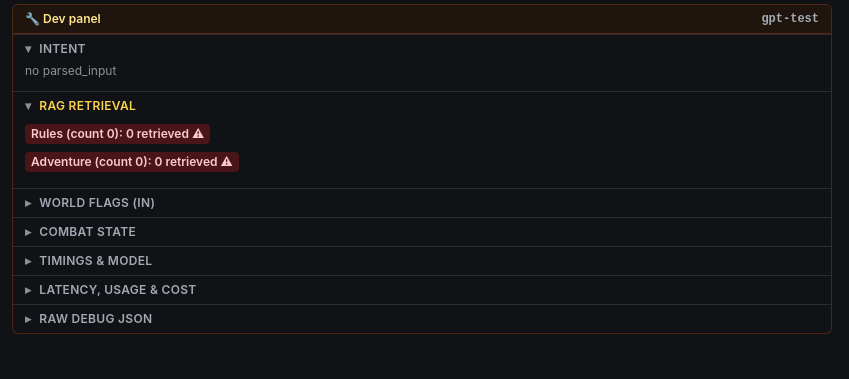
Test: says the turn's latency was not captured when an older build sent no row
The width and height of the screenshot is (849, 379).
Click the button "▸ Latency, usage & cost". click: (118, 290)
box: [13,276,831,304]
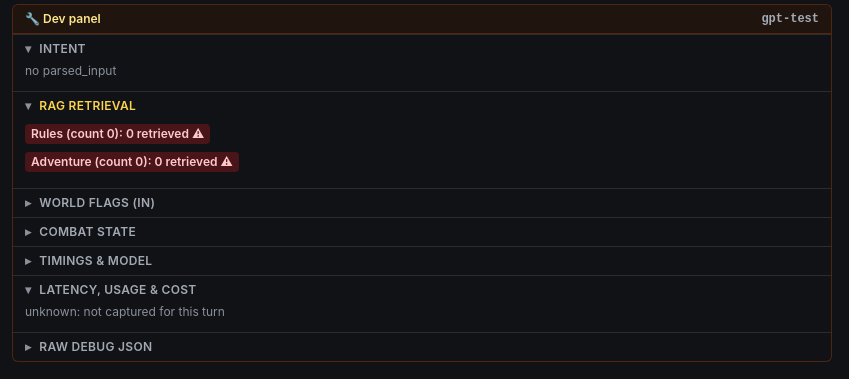
Now the text "unknown: not captured for this turn" is shown, box [25,304,225,319]
